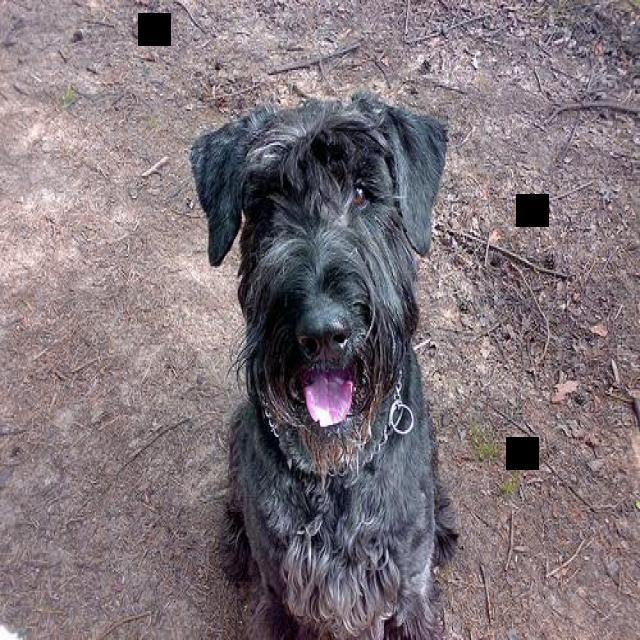adult_dog: (188, 89, 468, 640)
